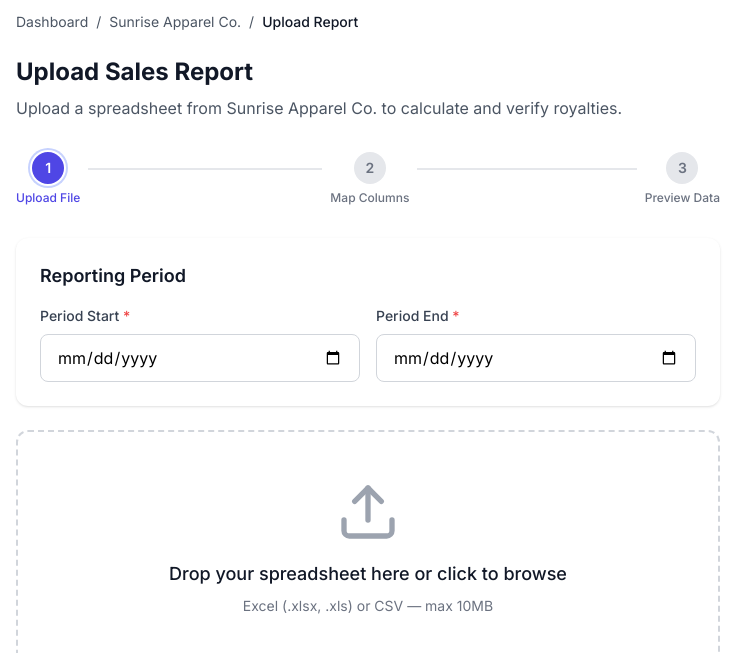
Sales Upload Wizard — Gap 3: Contract date range and frequency validation › Change dates on range card clears date fields and dismisses card
Step 1. Type "2026-01-01" into the date field labelled "Period Start *" → (200, 358), box [40,334,360,382]
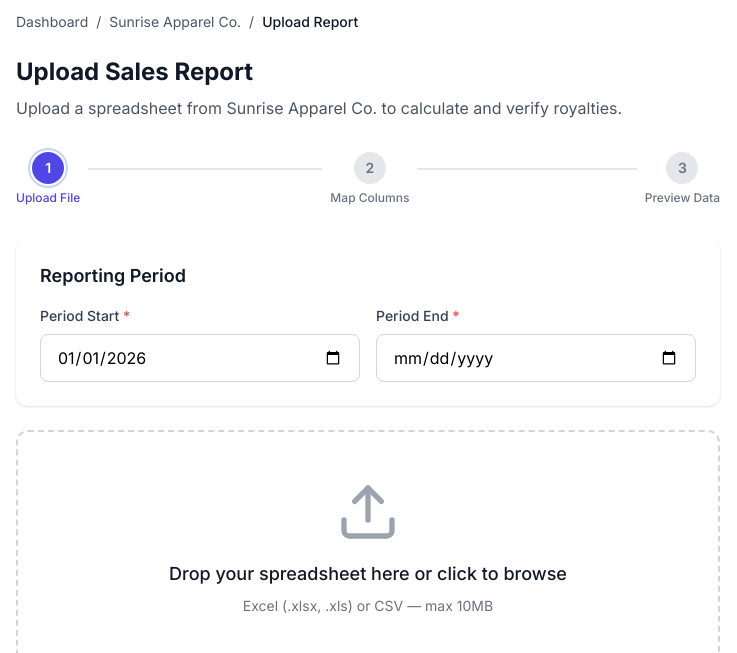
Step 2. Type "2026-03-31" into the date field labelled "Period End *" → (536, 358), box [376,334,696,382]
Wait 400 ms
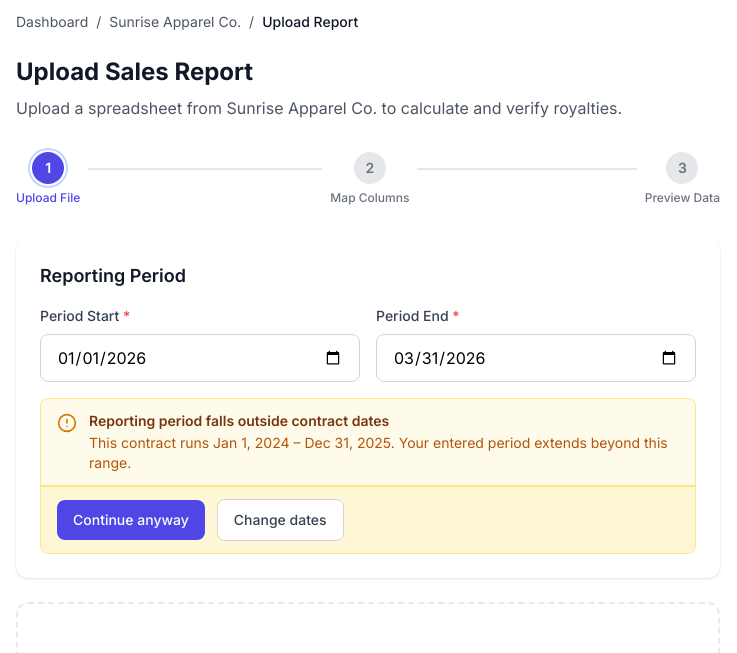
Result: the button "Change dates" is shown
Step 3. Click the button "Change dates" → click(280, 520), box [217,499,344,541]
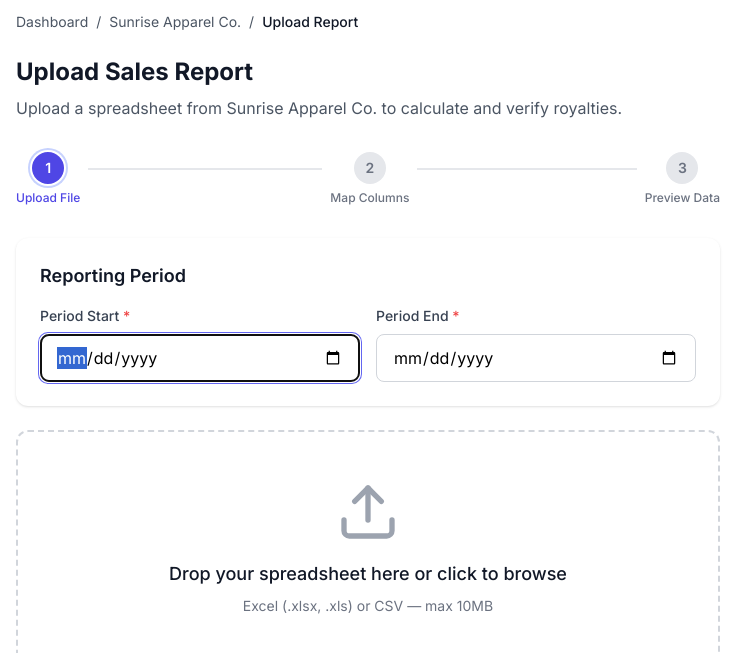
Result: the text "Reporting period falls outside contract dates" is gone
Result: the date field labelled "Period Start *" is empty at [40,334,360,382]
Result: the date field labelled "Period End *" is empty at [376,334,696,382]
